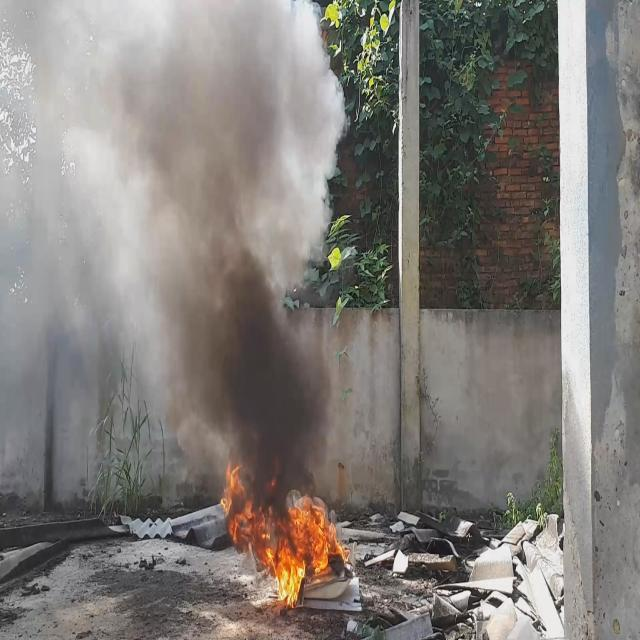Fire: (224, 468, 352, 611)
Smoke: (0, 0, 345, 524)
